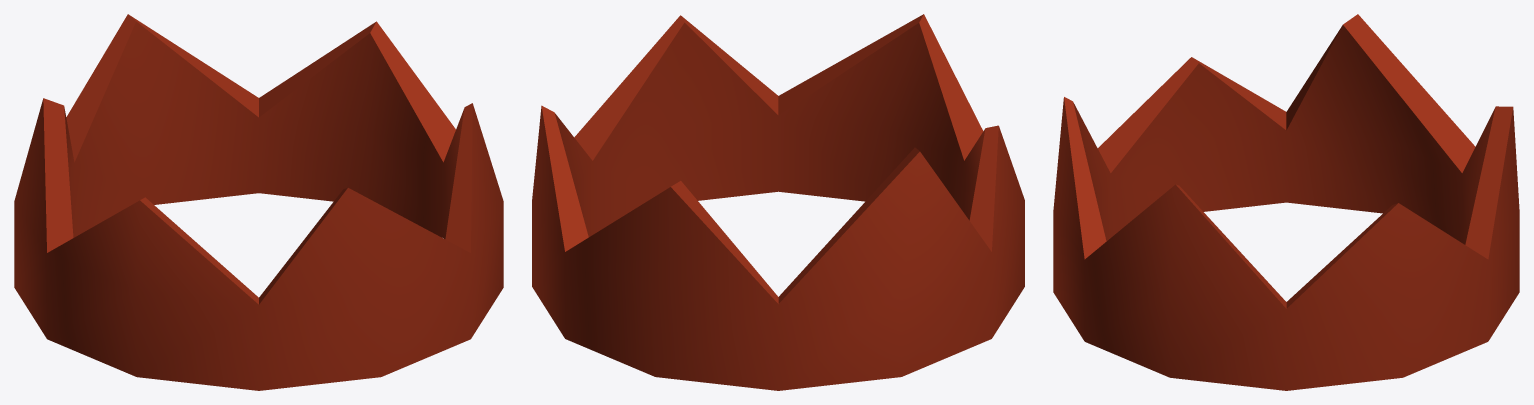
Rendered from Hat_Party.fbx.
3 views of the same model, side by side, from view 1: azimuth 30°, elevation 25°; view 2: azimuth 150°, elevation 25°; view 3: azimuth 270°, elevation 25° (orthographic). The views are drawn at different scales.
Visible parts, largest first — view 1: Hat_Party; view 2: Hat_Party; view 3: Hat_Party.
Part boxes in pixels (x1=…): Hat_Party: x1=14, y1=14, x2=503, y2=390; Hat_Party: x1=532, y1=14, x2=1024, y2=390; Hat_Party: x1=1053, y1=14, x2=1519, y2=390.
Size of the model in its own units: 1.16 by 0.5387 by 1.16.
